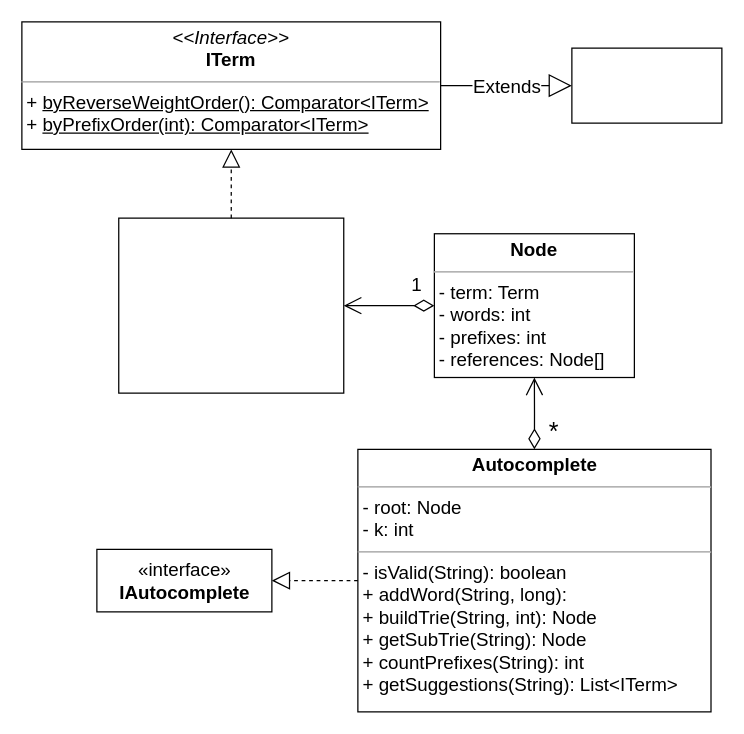
Some shapes in this 744 by 734 pixel diagram are drawn without their labels. Here are the shapes that lost their labels. From the top down, the centre of each, then its label:
At (x=646, y=85): "<<abstract>> Comparable".
At (x=231, y=305): "Term - term: String - weight: long + compareTo(ITerm): int + toString(): String".
